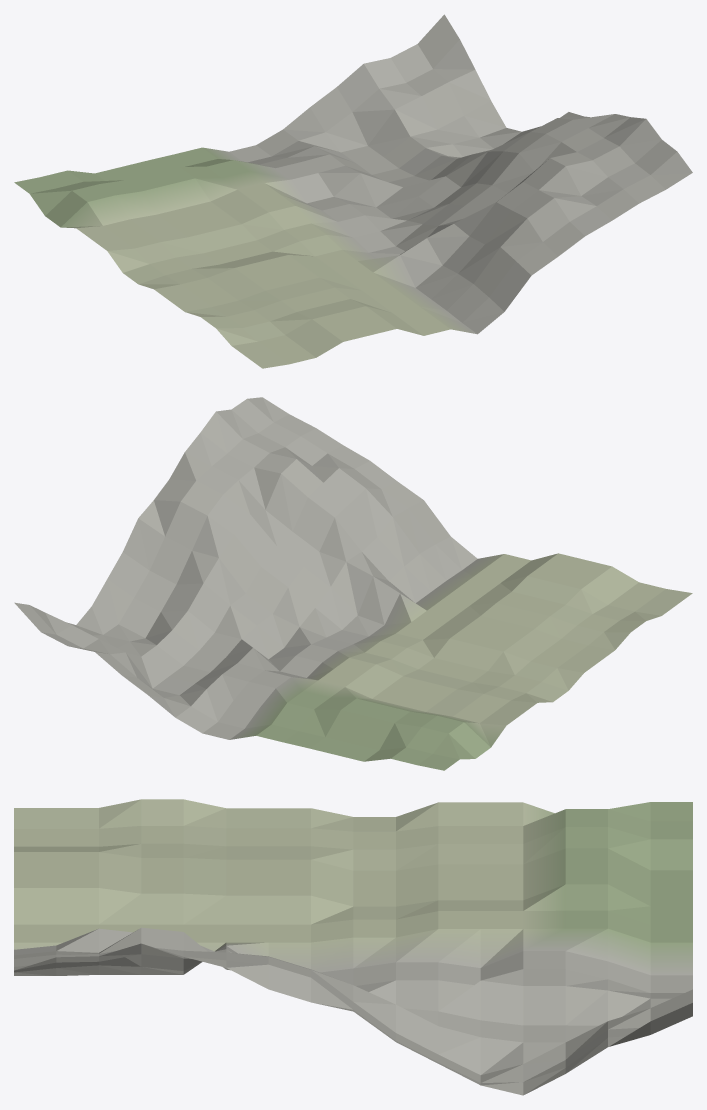
3 views of the same model, one above another, from view 1: azimuth 30°, elevation 25°; view 2: azimuth 150°, elevation 25°; view 3: azimuth 270°, elevation 25° (orthographic). The views are drawn at different scales.
Bounding box in the file's own units: 32 × 9.16 × 32.
